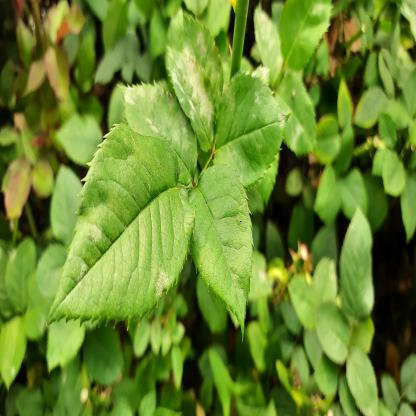powdery-mildew: (46, 112, 194, 328), (187, 158, 254, 338), (122, 72, 204, 178), (215, 70, 289, 177), (166, 40, 217, 144), (253, 3, 285, 74)
